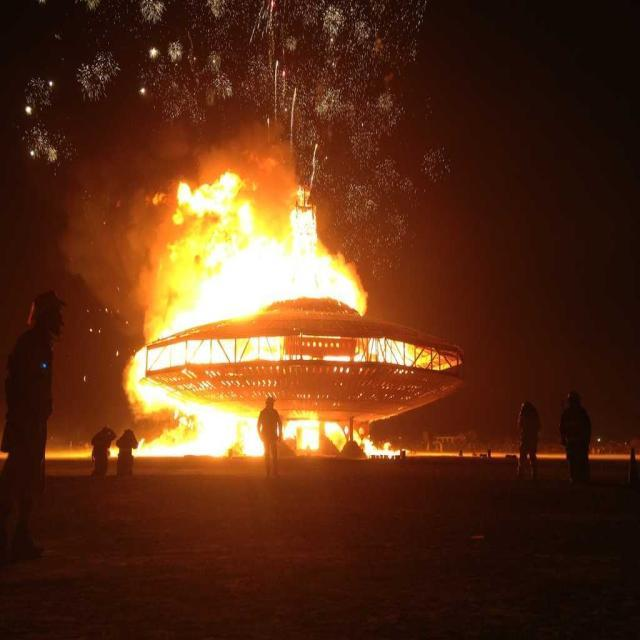Fire: (189, 253, 325, 302), (175, 405, 254, 450), (212, 192, 276, 238), (244, 222, 252, 224)
